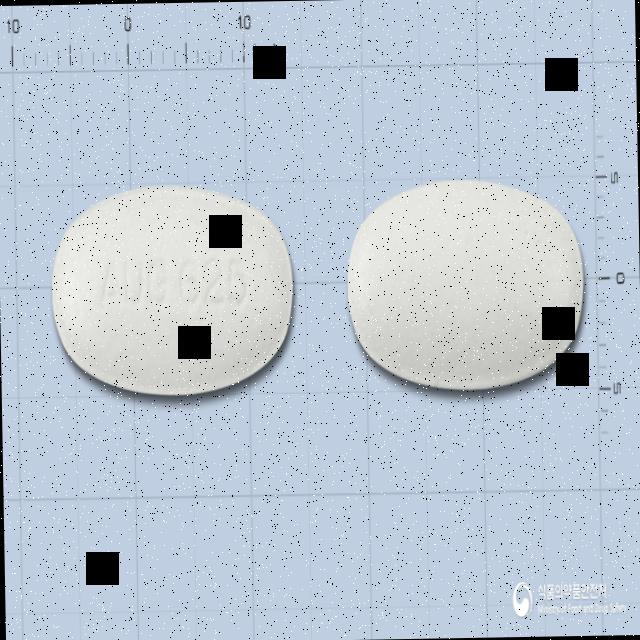Ilsung Augmentin: (49, 181, 296, 399)
